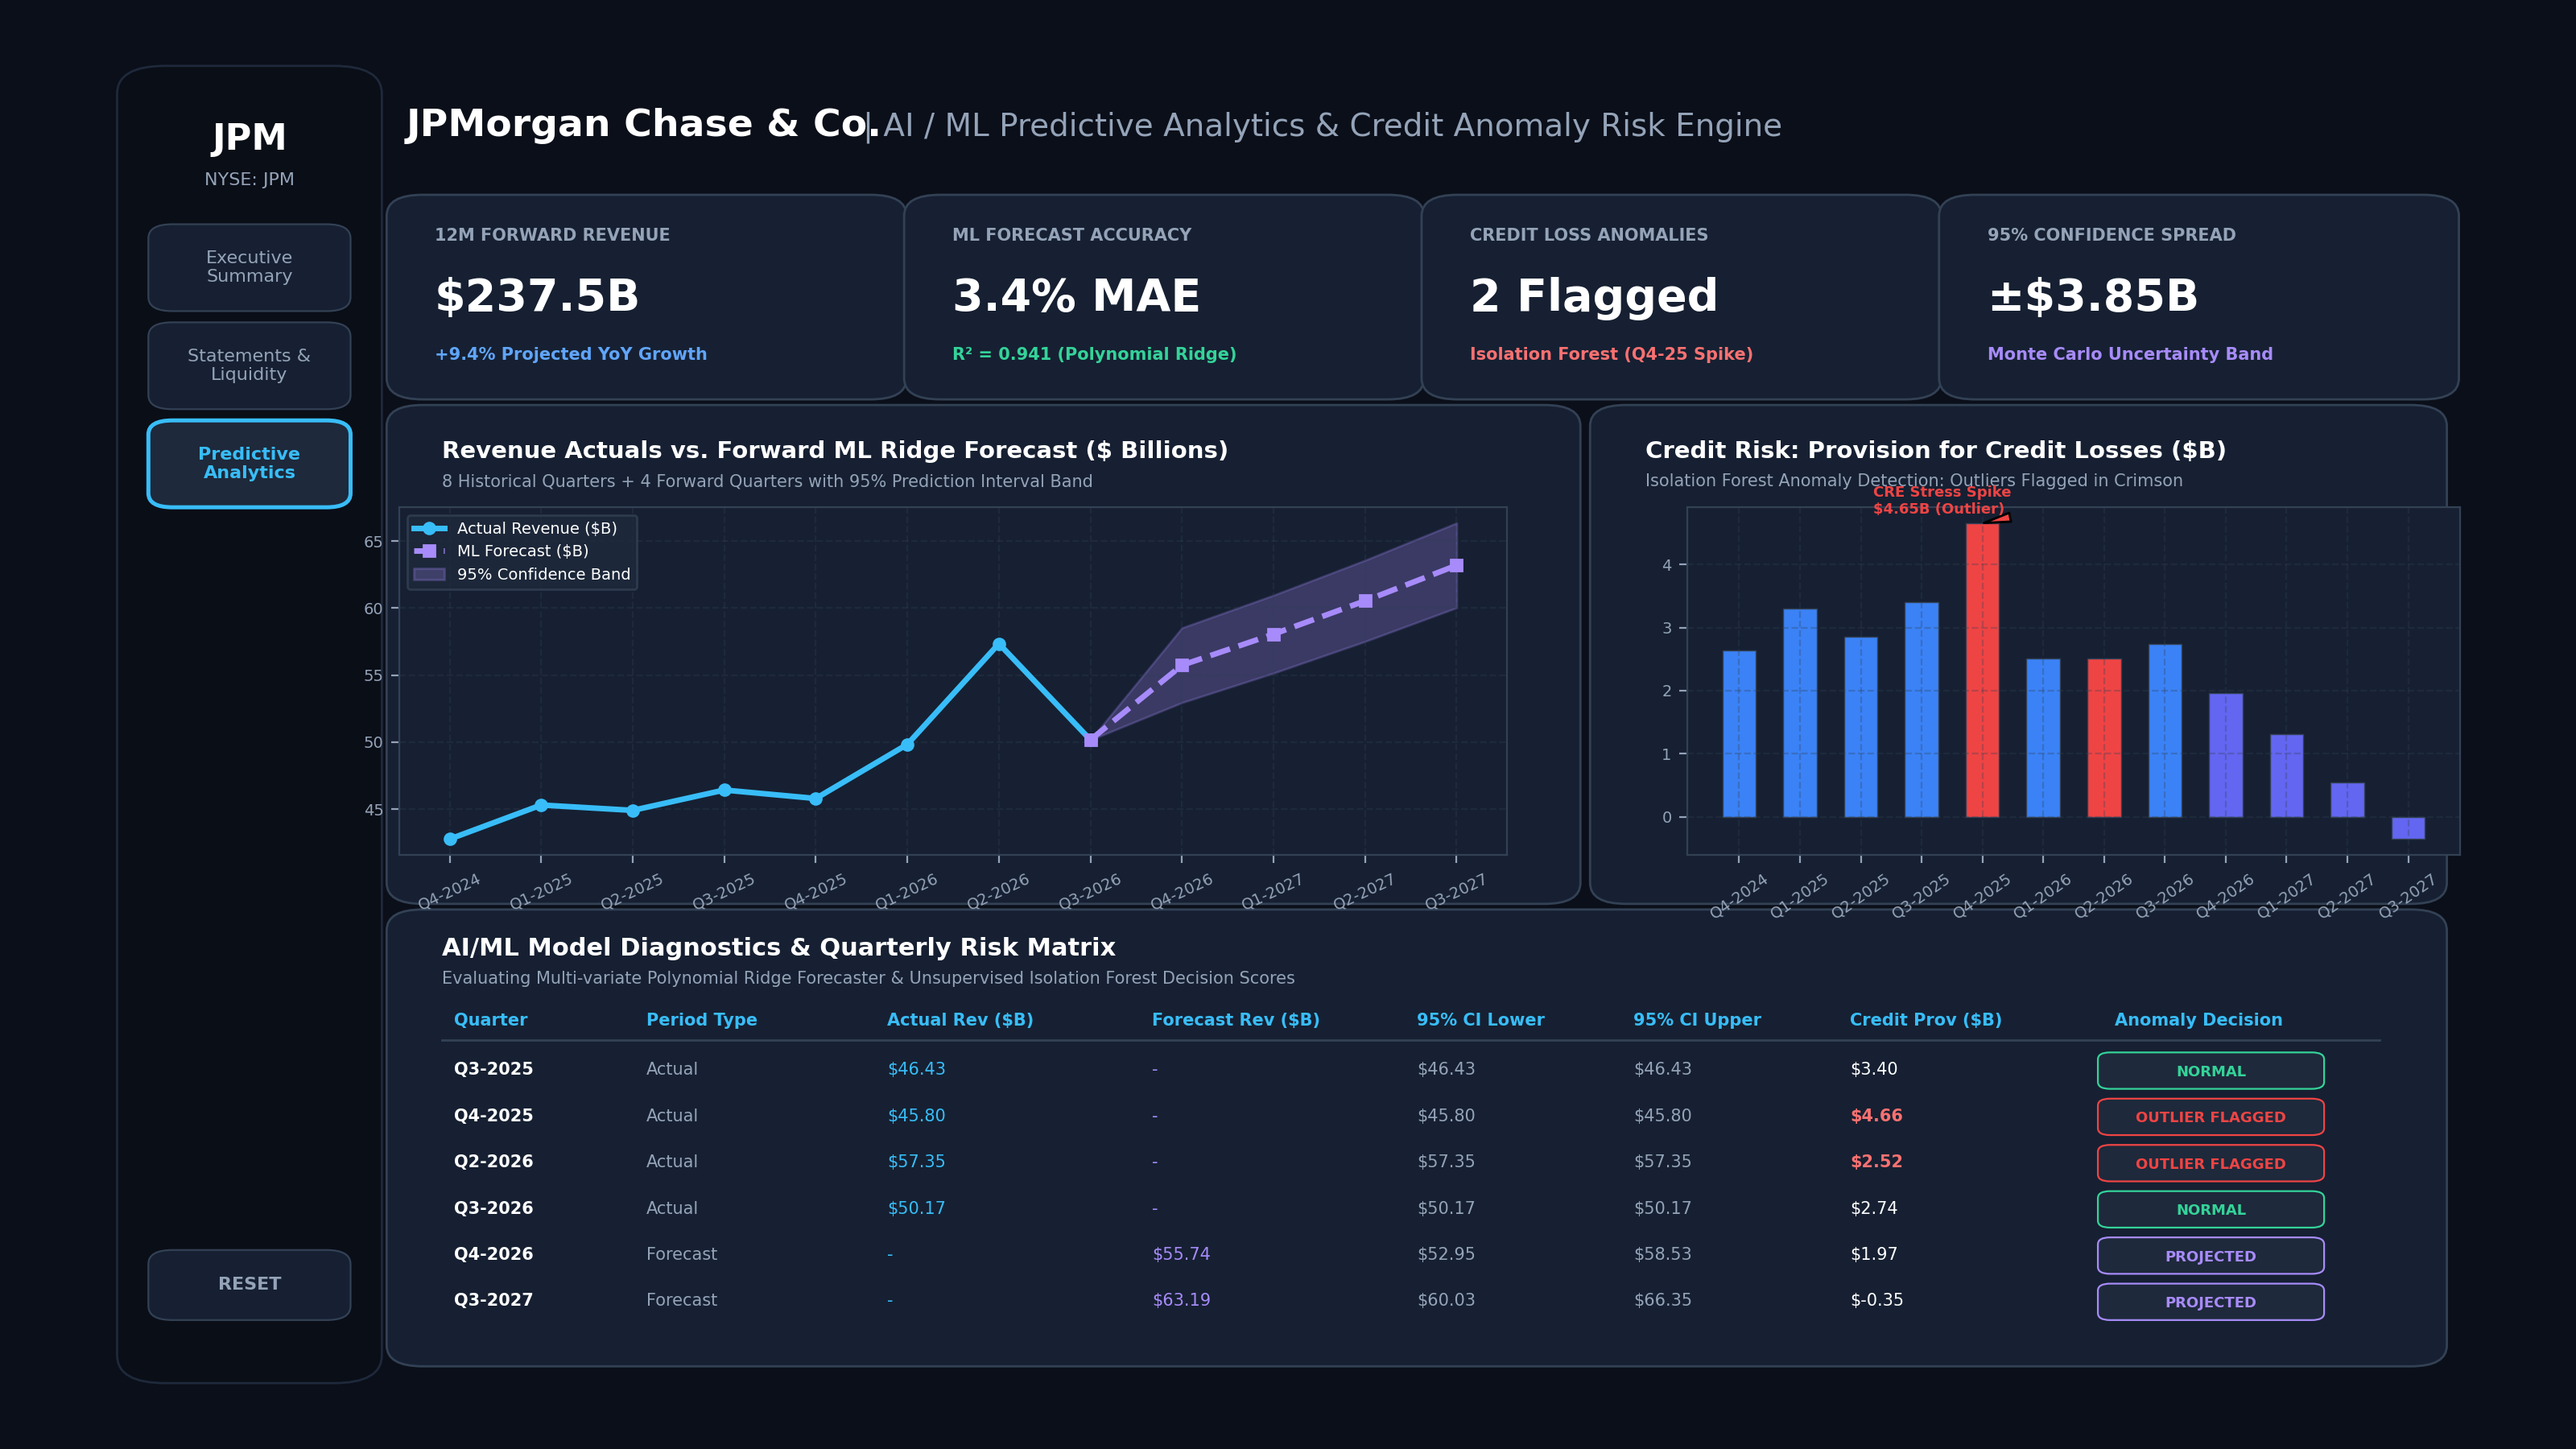

The page's visual inventory and layout, read from the dashboard file:
{"tool":"powerbi","page":{"name":"Predictive Analytics","canvas":[1920,1080],"ordinal":2},"visuals":[{"type":"shape","box":[14,86,194,982],"z":0},{"type":"lineChart","title":"Revenue Actuals vs. Forward ML Ridge Forecast ($ Billions)","fields":{"Category":["jpm_financial_ml_enriched.Quarter"],"Y":["_JPM_Measures.Revenue Actual","_JPM_Measures.Revenue Forecast","_JPM_Measures.Rev Upper 95","_JPM_Measures.Rev Lower 95"]},"box":[242,296,930,366],"z":1000},{"type":"cardVisual","fields":{"Data":["_JPM_Measures.Forward 12M Revenue","_JPM_Measures.Model Accuracy MAE","_JPM_Measures.Anomalies Flagged","_JPM_Measures.Confidence Spread Band"]},"box":[242,84,1664,198],"z":2000},{"type":"clusteredColumnChart","title":"Credit Risk: Provision for Credit Losses ($B)","fields":{"Category":["jpm_financial_ml_enriched.Quarter"],"Y":["_JPM_Measures.Provision Losses"]},"box":[1190,296,716,366],"z":3000},{"type":"tableEx","title":"AI/ML Model Diagnostics & Quarterly Risk Matrix","fields":{"Values":["jpm_financial_ml_enriched.Quarter","jpm_financial_ml_enriched.is_forecast","_JPM_Measures.Revenue Actual","_JPM_Measures.Revenue Forecast","_JPM_Measures.Rev Upper 95","_JPM_Measures.Rev Lower 95","_JPM_Measures.Provision Losses","jpm_financial_ml_enriched.ml_anomaly_flag"]},"box":[242.5,682.5,1664,384],"z":4000},{"type":"actionButton","box":[26,282,168.3,138.9],"z":5000},{"type":"actionButton","box":[26.7,464.8,168.3,138.9],"z":6000},{"type":"actionButton","box":[26.7,638.4,168.3,138.9],"z":7000},{"type":"textbox","box":[14,0,1892,86],"z":8000},{"type":"actionButton","box":[46,976,126,52],"z":9000}]}

Visuals, with their boxes in screenshot pixels (x1, y1, x2, y2), scaled from the page's 1920x1080 canvas onto the 2576x1449 screenshot:
shape: Rect(19, 115, 279, 1433)
"Revenue Actuals vs. Forward ML Ridge Forecast ($ Billions)" lineChart: Rect(324, 397, 1572, 888)
cardVisual - _JPM_Measures.Forward 12M Revenue x _JPM_Measures.Model Accuracy MAE: Rect(324, 113, 2557, 378)
"Credit Risk: Provision for Credit Losses ($B)" clusteredColumnChart: Rect(1596, 397, 2557, 888)
"AI/ML Model Diagnostics & Quarterly Risk Matrix" tableEx: Rect(325, 916, 2558, 1431)
actionButton: Rect(35, 378, 261, 565)
actionButton: Rect(35, 624, 262, 810)
actionButton: Rect(35, 857, 262, 1043)
textbox: Rect(19, 0, 2557, 115)
actionButton: Rect(62, 1310, 231, 1379)
